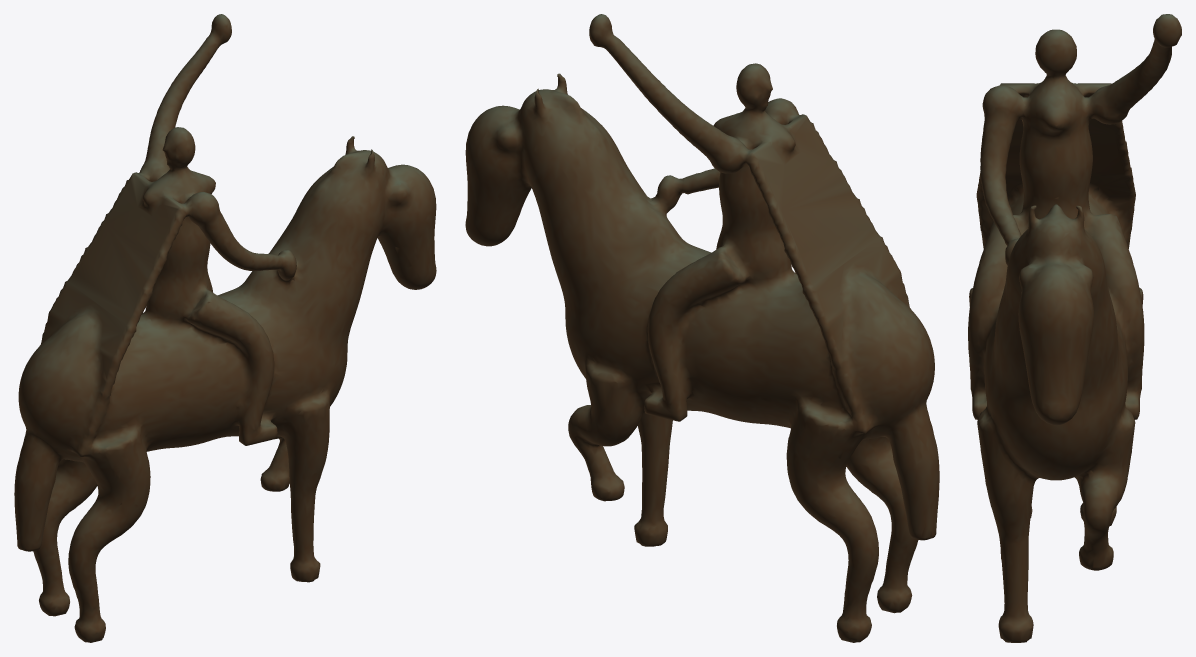
The model's file is david.glb.
3 renders of one model, left to right at view 1: azimuth 30°, elevation 25°; view 2: azimuth 150°, elevation 25°; view 3: azimuth 270°, elevation 25°, orthographic. The views are drawn at different scales.
Visible parts, largest first — view 1: dv_m; view 2: dv_m; view 3: dv_m.
Boxes of the visible parts, x1,y1,x2,y2 form: dv_m: (14,14,436,642); dv_m: (465,14,939,642); dv_m: (968,14,1181,642).
Bounding box in the file's own units: 0.8286 × 1 × 0.3124.
